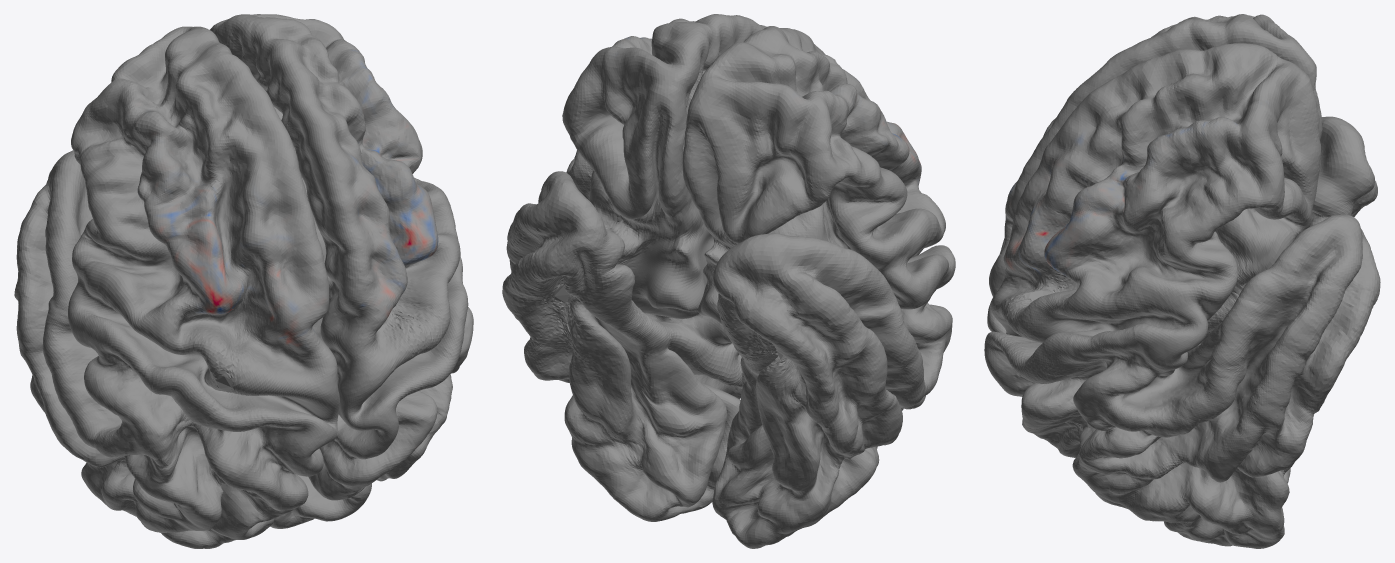
File: caudate_BV_marginal.glb
3 views of the same model, side by side, from view 1: azimuth 30°, elevation 25°; view 2: azimuth 150°, elevation 25°; view 3: azimuth 270°, elevation 25° (orthographic). The views are drawn at different scales.
Parts seen in each view (by area): view 1: world; view 2: world; view 3: world.
Part boxes in pixels (<box>): world: <box>14,14,473,548</box>; world: <box>502,14,955,548</box>; world: <box>984,14,1380,548</box>.
Bounding box in the file's own units: 139 × 174 × 127.
